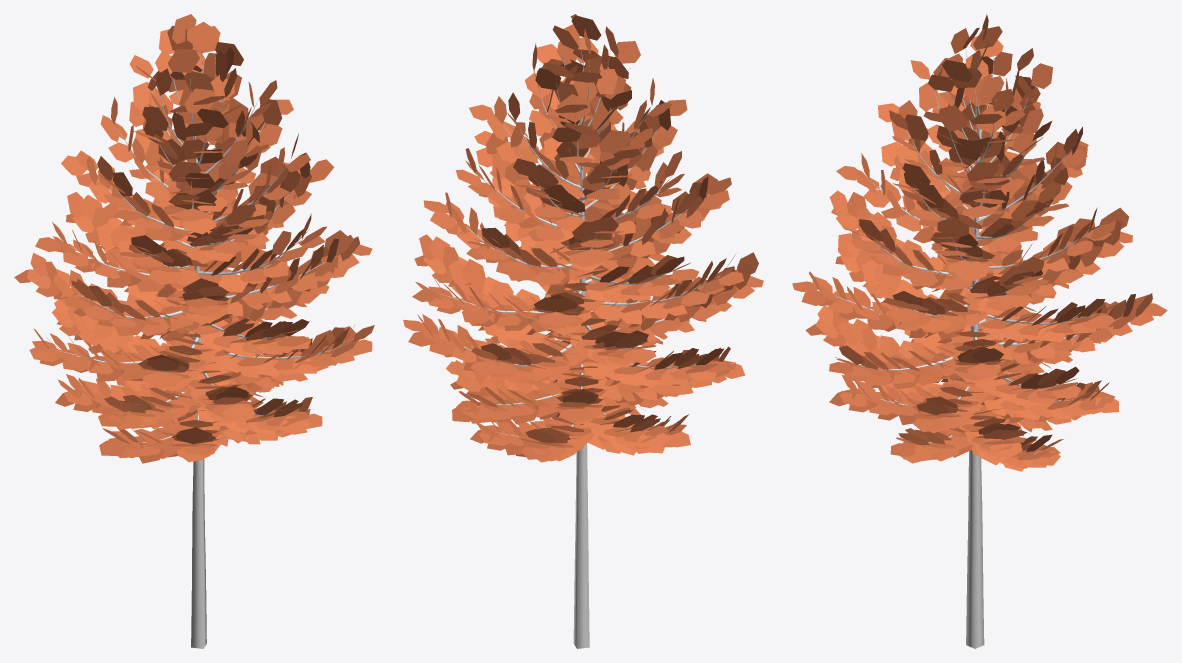
The model's file is TreeBirchTest.fbx.
3 renders of one model, left to right at view 1: azimuth 30°, elevation 25°; view 2: azimuth 150°, elevation 25°; view 3: azimuth 270°, elevation 25°, orthographic.
Visible parts, largest first — view 1: leaves, tree; view 2: leaves, tree; view 3: leaves, tree.
Boxes of the visible parts, bbox=[...] form: leaves: bbox=[14, 14, 374, 463]; tree: bbox=[46, 46, 351, 648]; leaves: bbox=[403, 14, 763, 462]; tree: bbox=[437, 38, 720, 648]; leaves: bbox=[792, 14, 1167, 471]; tree: bbox=[836, 42, 1121, 648].
Bounding box in the file's own units: 945 × 1794 × 978.
